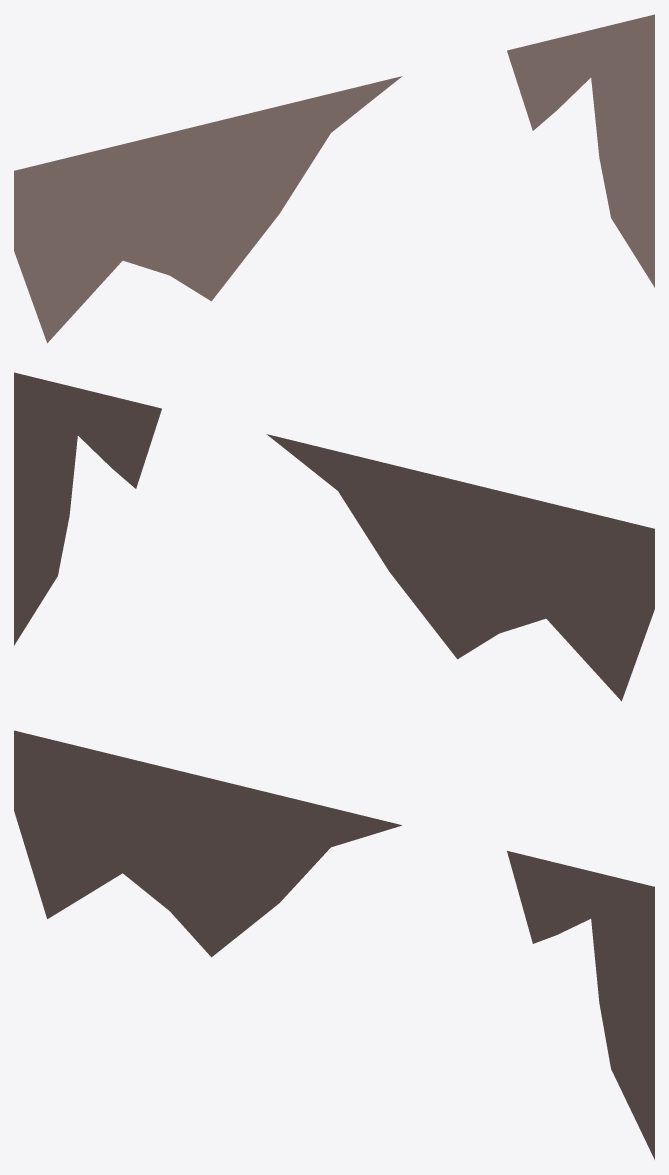
File: g_t_GarageWallRusty4.fbx
The picture shows the model from 3 angles, top to bottom: view 1: azimuth 30°, elevation 25°; view 2: azimuth 150°, elevation 25°; view 3: azimuth 330°, elevation 25°; orthographic projection.
Visible parts, largest first — view 1: g_t_TiledWallr3; view 2: g_t_TiledWallr3; view 3: g_t_TiledWallr3.
Boxes of the visible parts, x1,y1,x2,y2 form: g_t_TiledWallr3: (14, 14, 654, 343); g_t_TiledWallr3: (14, 372, 654, 701); g_t_TiledWallr3: (14, 730, 654, 1159).
Size of the model in its own units: 0.8182 by 0.3338 by 5.22e-08.
